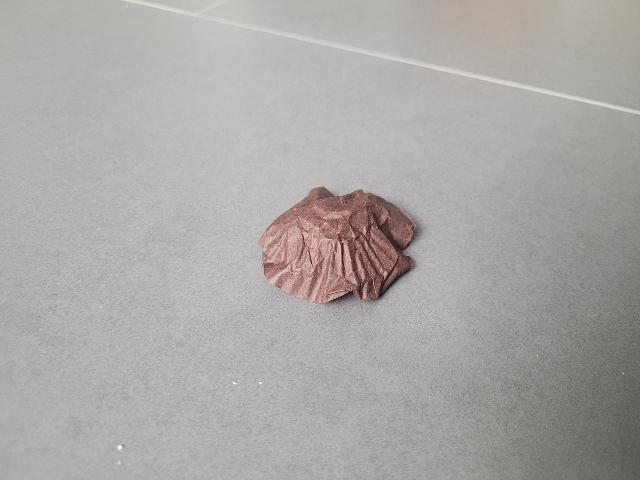Plastik: (240, 186, 429, 305)
